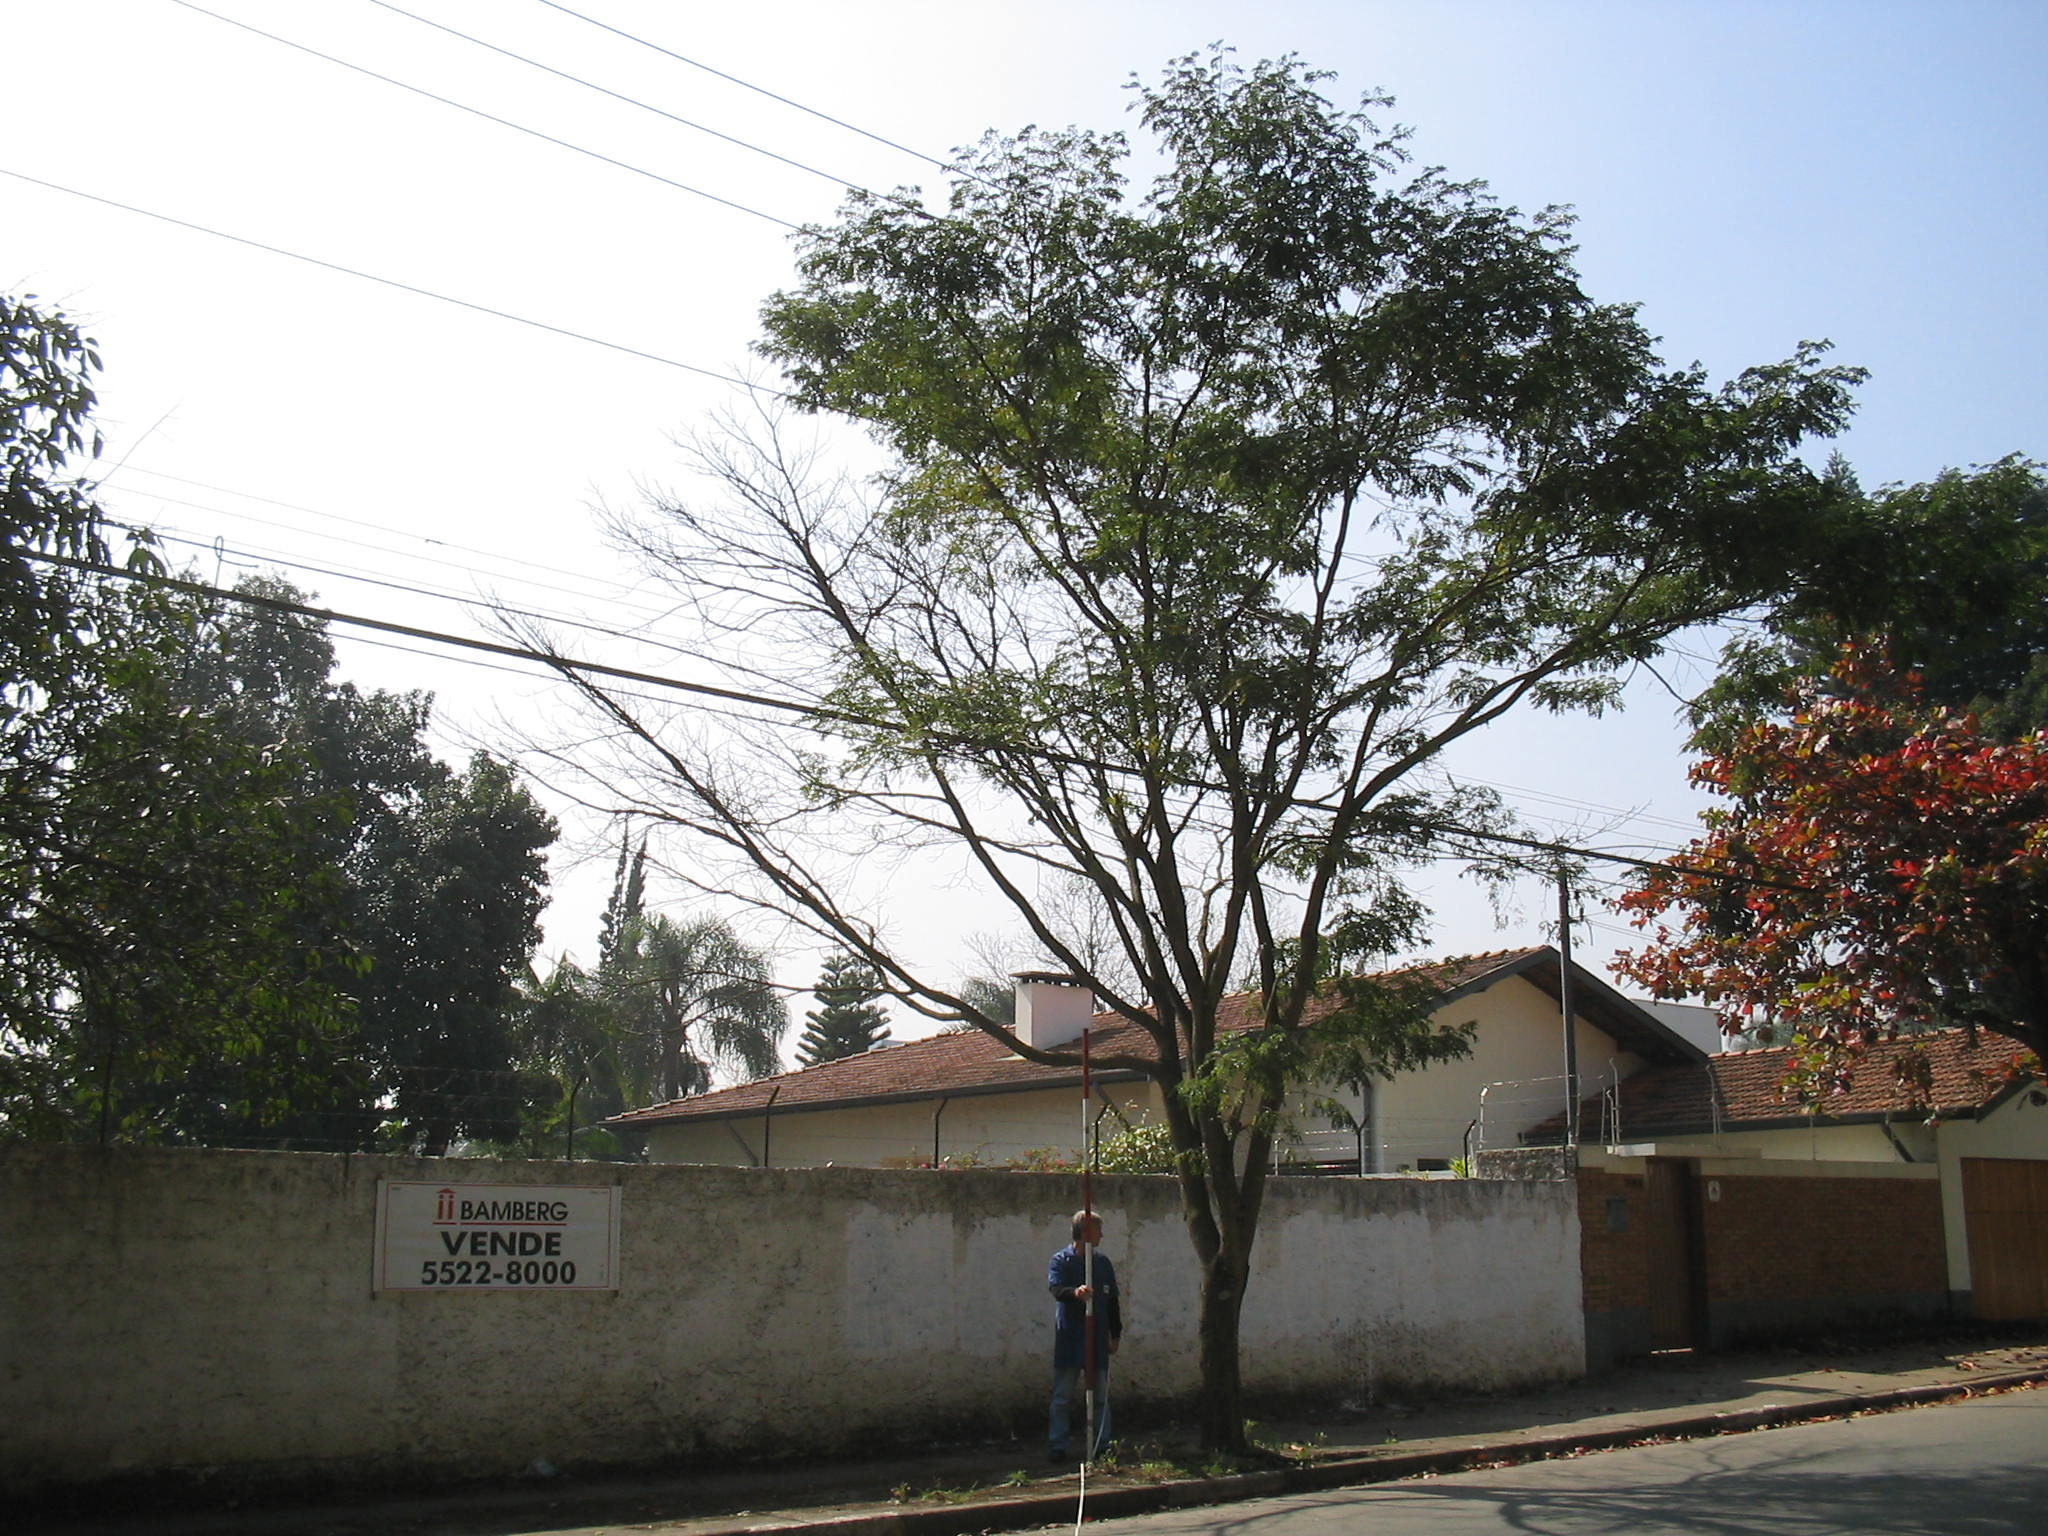crown: (492, 40, 1864, 1129)
stem: (1155, 1265, 1298, 1455)
stick: (1059, 1028, 1113, 1471)
tree: (484, 34, 1866, 1459)
